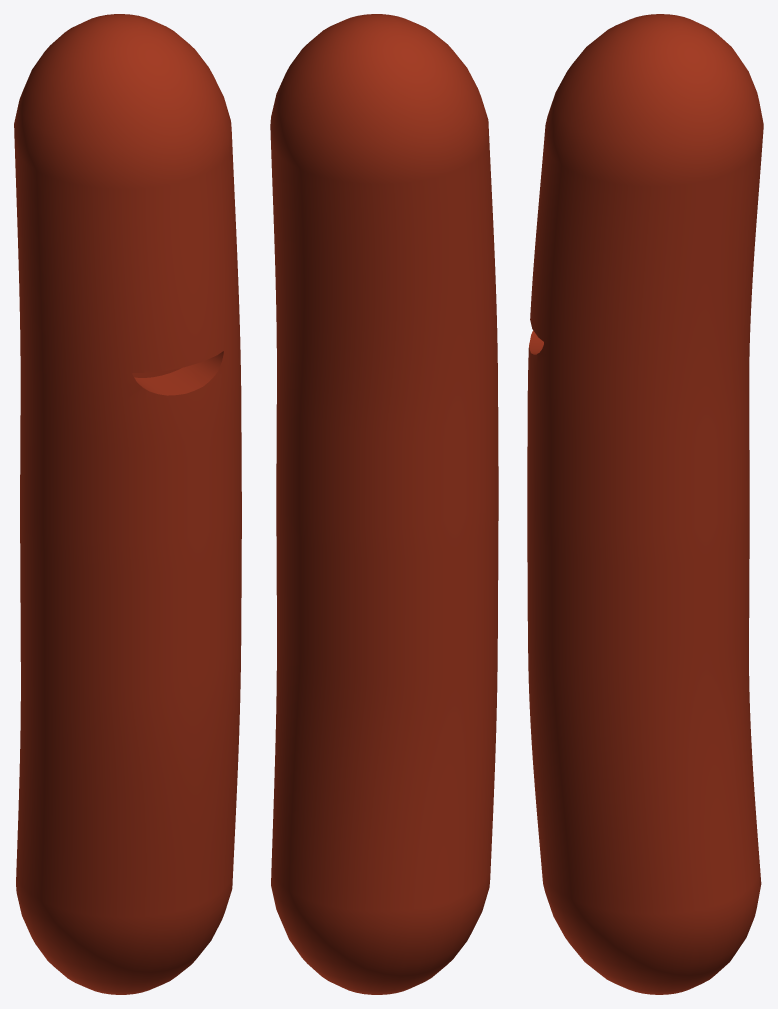
3 renders of one model, left to right at view 1: azimuth 30°, elevation 25°; view 2: azimuth 150°, elevation 25°; view 3: azimuth 270°, elevation 25°, orthographic.
Parts seen in each view (by area): view 1: Sphere; view 2: Sphere; view 3: Sphere.
Boxes of the visible parts, box(x1,y1,x2,y2) form: Sphere: box(14, 14, 241, 994); Sphere: box(270, 14, 498, 994); Sphere: box(527, 14, 763, 994).
Size of the model in its own units: 1.07 by 5.14 by 1.14.
